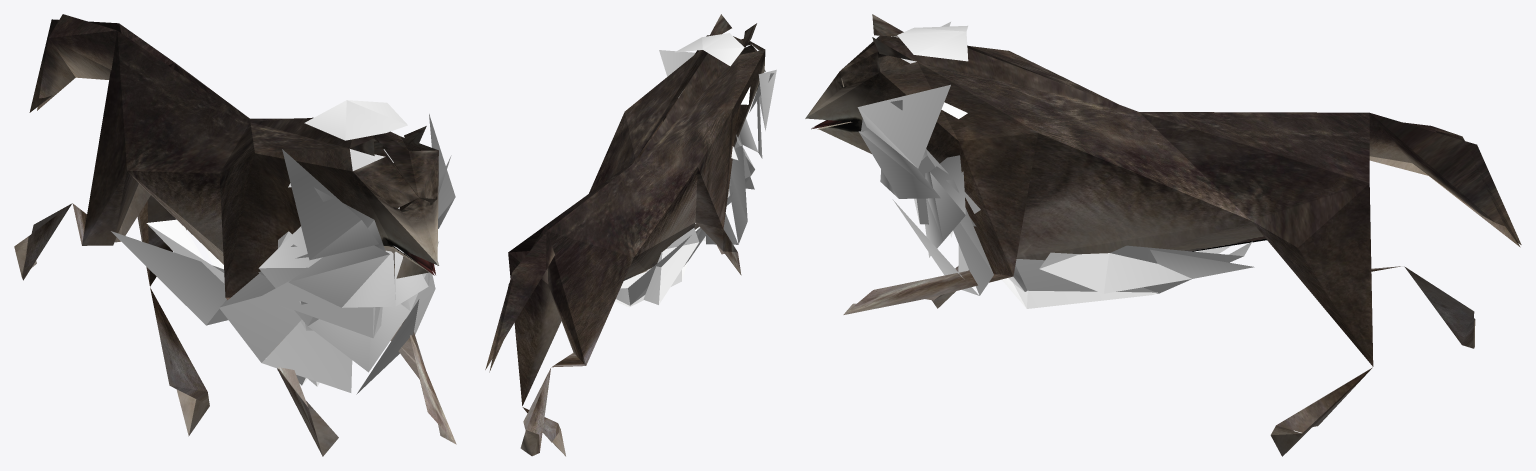
The model's file is rusher.glb.
3 views of the same model, side by side, from view 1: azimuth 30°, elevation 25°; view 2: azimuth 150°, elevation 25°; view 3: azimuth 270°, elevation 25° (orthographic). The views are drawn at different scales.
Parts seen in each view (by area): view 1: rusher; view 2: rusher; view 3: rusher.
Boxes of the visible parts, box(x1,y1,x2,y2) form: rusher: box(14, 14, 456, 456); rusher: box(485, 14, 776, 456); rusher: box(805, 14, 1521, 456).
Size of the model in its own units: 0.2637 by 0.6013 by 0.9249.
Materials: 2 (1 with a texture image).
